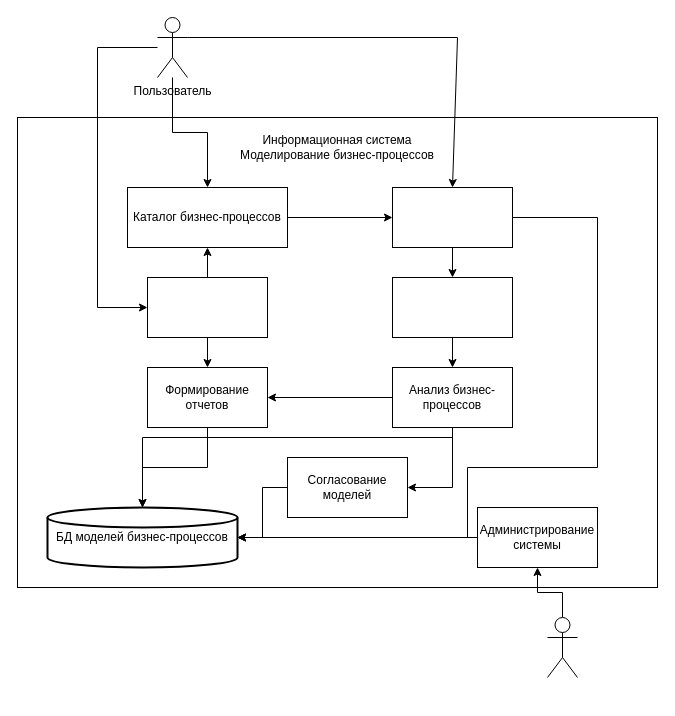
Image size: 675x716. Some labels were removed from this diagram. Here are the shapes that lost their labels. From the top down, the box of each, then its label:
(392, 186, 512, 248): Редактор моделей
(146, 276, 268, 338): Личный кабинет
(392, 276, 512, 338): Описание элементов процессов
(546, 616, 578, 678): Администратор
